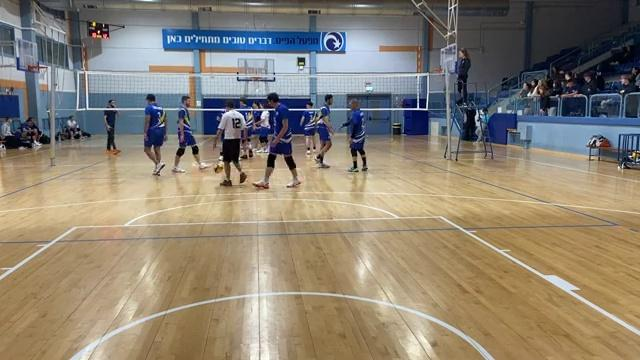ball: (212, 159, 226, 175)
